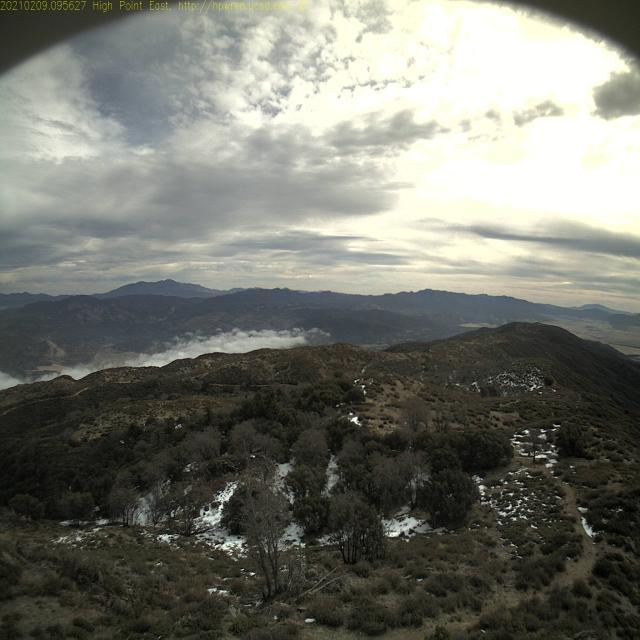smoke: (470, 309, 510, 326)
